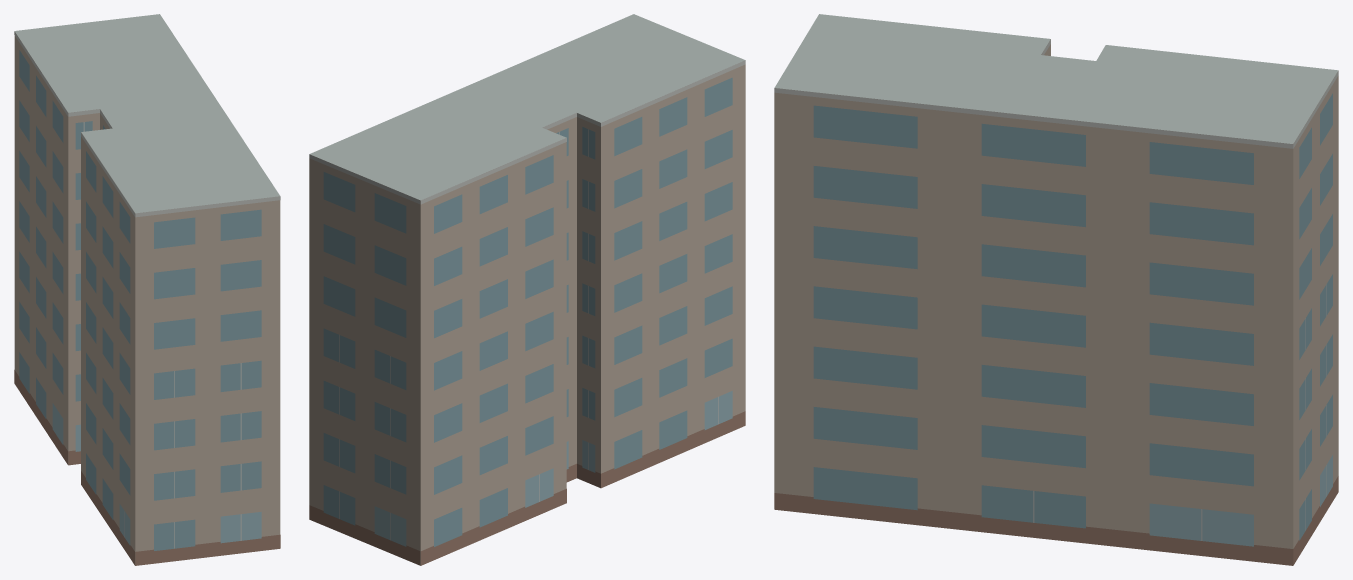
Rendered from survey-upis-32731763.glb.
3 views of the same model, side by side, from view 1: azimuth 30°, elevation 25°; view 2: azimuth 150°, elevation 25°; view 3: azimuth 270°, elevation 25° (orthographic). The views are drawn at different scales.
Parts seen in each view (by area): view 1: survey-upis-32731763.tmp; view 2: survey-upis-32731763.tmp; view 3: survey-upis-32731763.tmp.
Boxes of the visible parts, box(x1,y1,x2,y2) form: survey-upis-32731763.tmp: box(14, 14, 280, 565); survey-upis-32731763.tmp: box(309, 14, 745, 565); survey-upis-32731763.tmp: box(774, 14, 1338, 565).
Bounding box in the file's own units: 14.37 × 21.7 × 26.32.
